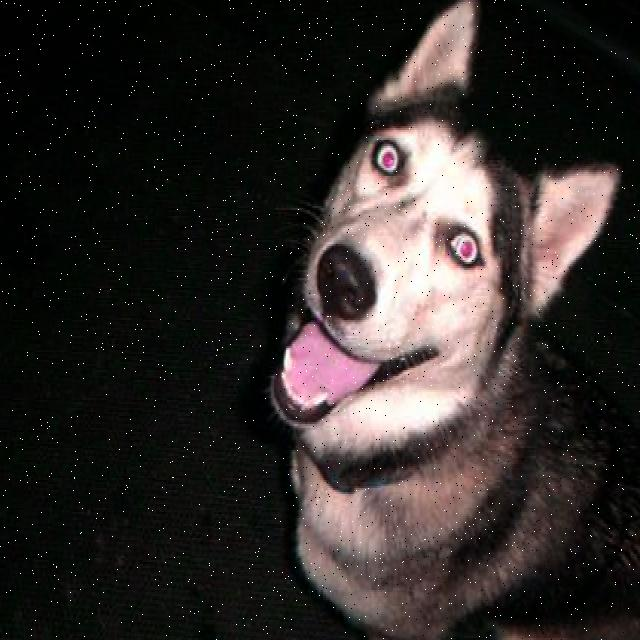Dog: (237, 0, 640, 454)
